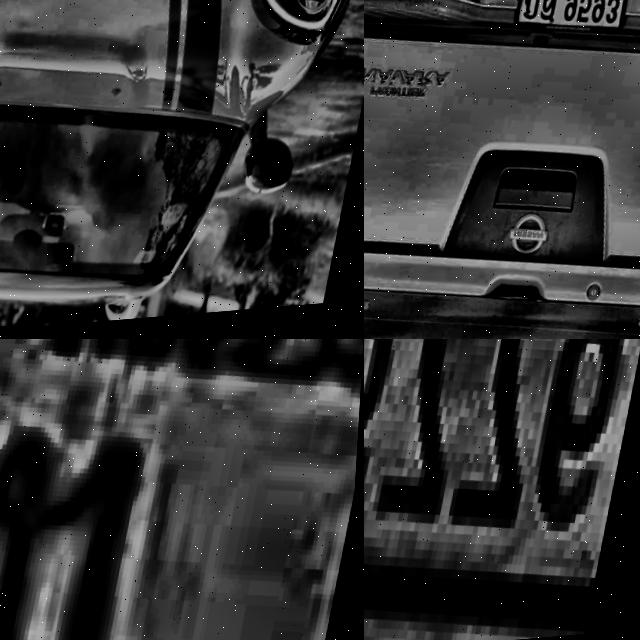license-plate: (0, 339, 364, 640), (364, 339, 640, 640), (510, 0, 640, 55)
